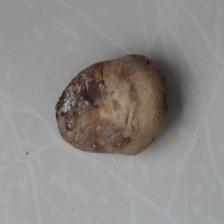Diseased-fungal potato: (55, 52, 171, 157)
